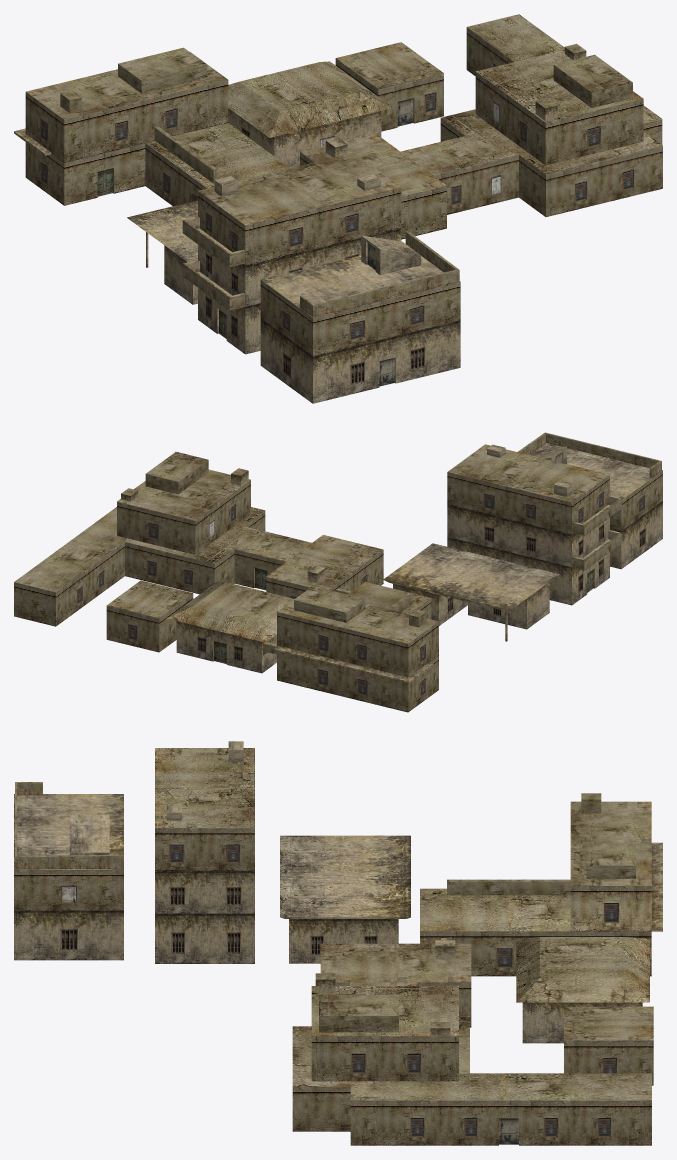
The model's file is MogBlk9B.glb.
3 views of the same model, one above another, from view 1: azimuth 30°, elevation 25°; view 2: azimuth 150°, elevation 25°; view 3: azimuth 270°, elevation 25° (orthographic). The views are drawn at different scales.
Visible parts, largest first — view 1: _MogBlk9B; view 2: _MogBlk9B; view 3: _MogBlk9B.
Part boxes in pixels (x1=…): _MogBlk9B: x1=14, y1=14, x2=662, y2=403; _MogBlk9B: x1=14, y1=432, x2=662, y2=712; _MogBlk9B: x1=14, y1=741, x2=662, y2=1145.
Size of the model in its own units: 63.93 by 16.42 by 65.
3 materials, 3 textured.
